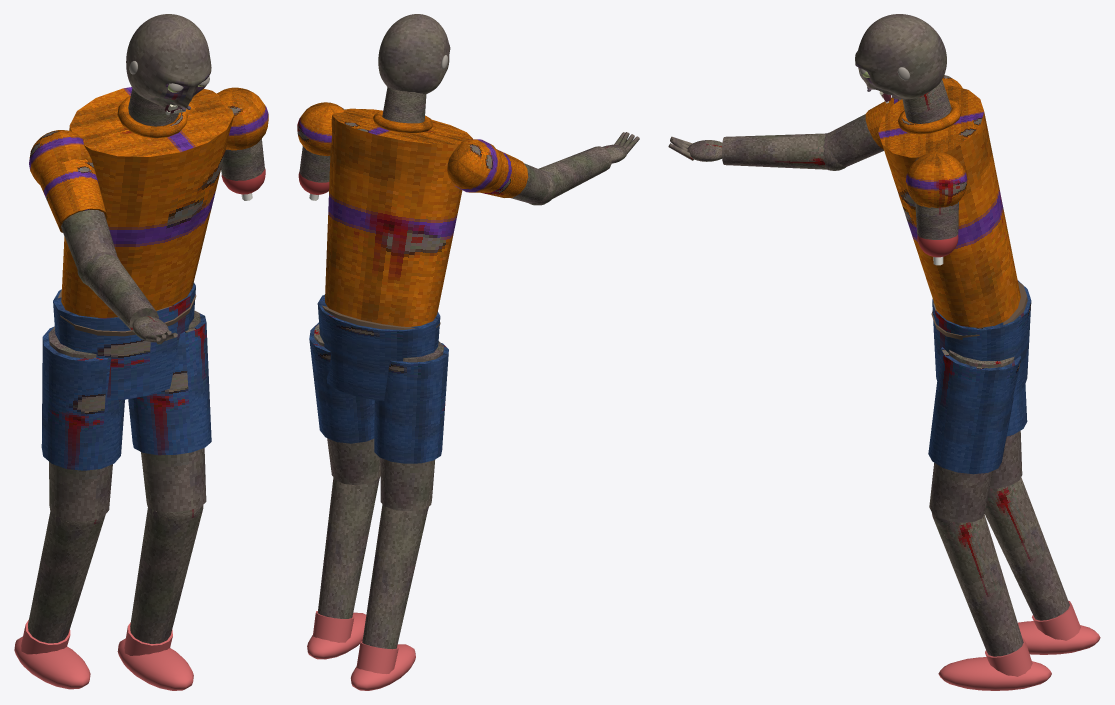
Rendered from Zombie_010.glb.
The picture shows the model from 3 angles, left to right: view 1: azimuth 30°, elevation 25°; view 2: azimuth 150°, elevation 25°; view 3: azimuth 270°, elevation 25°; orthographic projection. The views are drawn at different scales.
Parts seen in each view (by area): view 1: Zombie_010, object 9, object 3, object 4; view 2: Zombie_010, object 9, object 3; view 3: Zombie_010, object 9, object 3, object 4.
Part boxes in pixels (x1=…): Zombie_010: x1=14, y1=87, x2=268, y2=690; object 9: x1=126, y1=14, x2=211, y2=108; object 3: x1=83, y1=254, x2=158, y2=332; object 4: x1=132, y1=316, x2=168, y2=342; Zombie_010: x1=297, y1=87, x2=550, y2=690; object 9: x1=378, y1=14, x2=450, y2=94; object 3: x1=538, y1=146, x2=611, y2=198; Zombie_010: x1=827, y1=75, x2=1100, y2=690; object 9: x1=855, y1=14, x2=946, y2=99; object 3: x1=722, y1=133, x2=826, y2=169; object 4: x1=687, y1=140, x2=722, y2=161.
Size of the model in its own units: 0.6205 by 1.66 by 0.9937.
17 materials, 5 textured.
